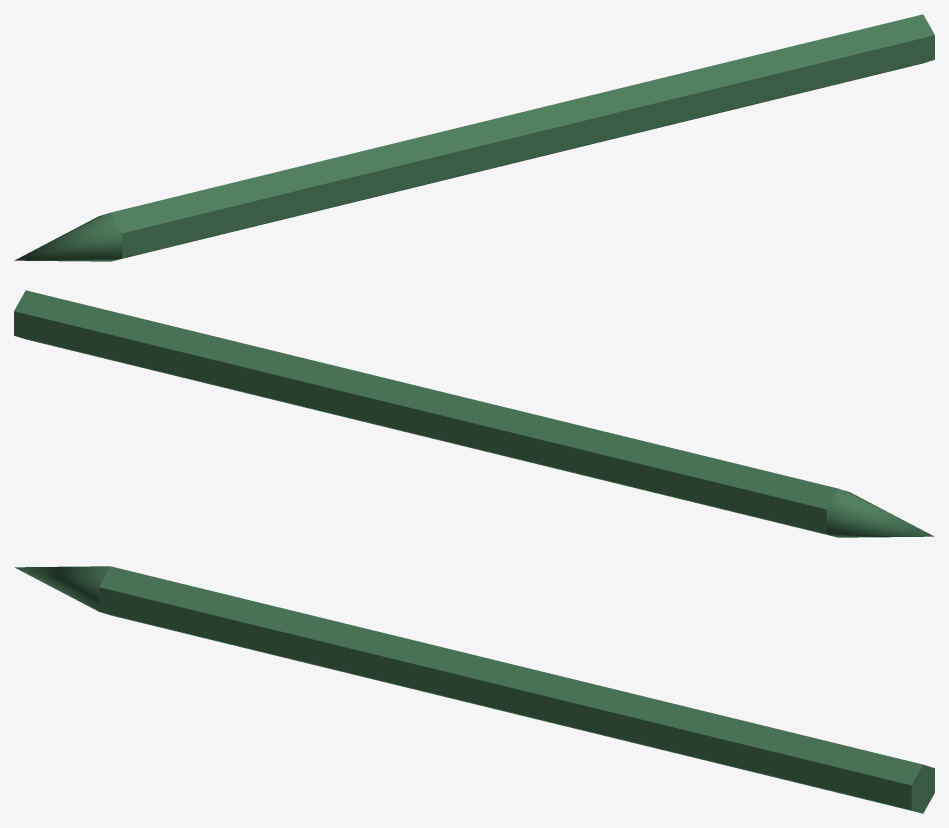
File: Pen_01.fbx
3 views of the same model, one above another, from view 1: azimuth 30°, elevation 25°; view 2: azimuth 150°, elevation 25°; view 3: azimuth 330°, elevation 25° (orthographic).
Visible parts, largest first — view 1: Pen_01; view 2: Pen_01; view 3: Pen_01.
Part boxes in pixels (<box>): Pen_01: <box>14,14,934,261</box>; Pen_01: <box>14,290,934,537</box>; Pen_01: <box>14,566,934,813</box>.
Bounding box in the file's own units: 28.01 × 1.45 × 1.25.
